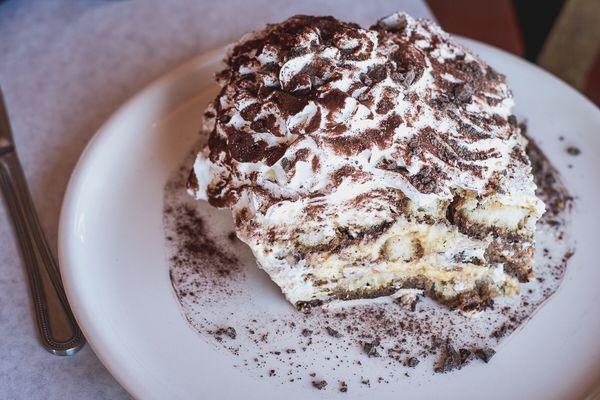burger: (0, 74, 85, 358)
